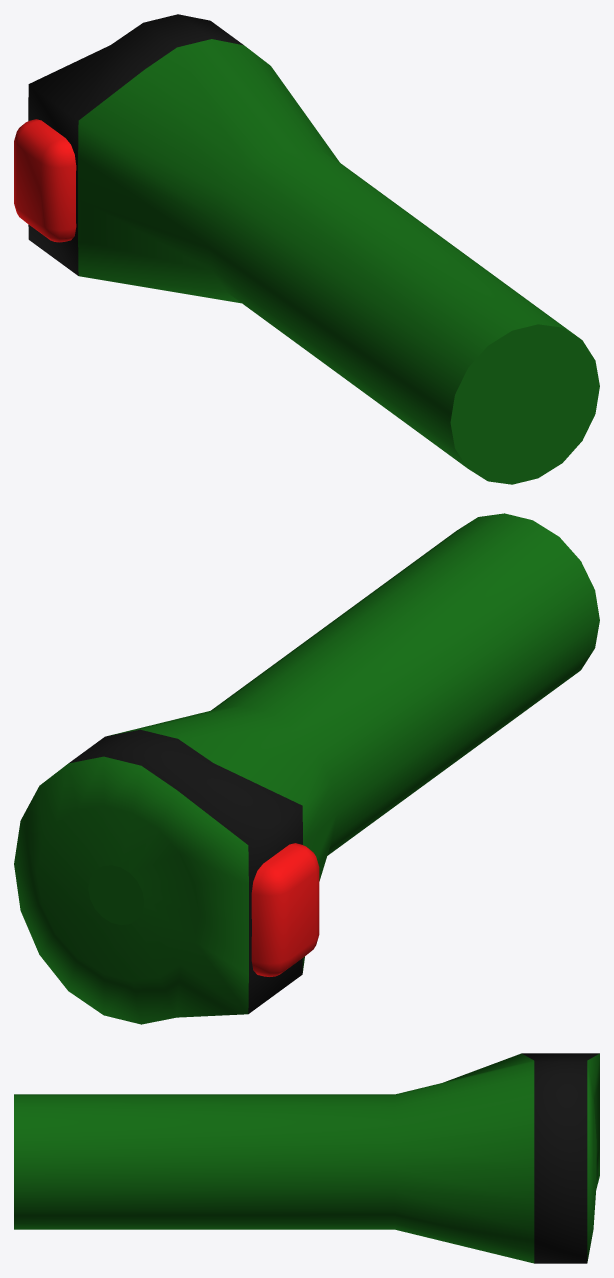
File: joystickThumbstick.obj
3 renders of one model, top to bottom at view 1: azimuth 30°, elevation 25°; view 2: azimuth 150°, elevation 25°; view 3: azimuth 270°, elevation 25°, orthographic. The views are drawn at different scales.
Visible parts, largest first — view 1: Cylinder001; view 2: Cylinder001; view 3: Cylinder001.
Part boxes in pixels (bbox=[...]): Cylinder001: bbox=[14, 14, 599, 484]; Cylinder001: bbox=[14, 513, 599, 1024]; Cylinder001: bbox=[14, 1053, 599, 1263].
Size of the model in its own units: 1.48 by 1.35 by 3.83.
